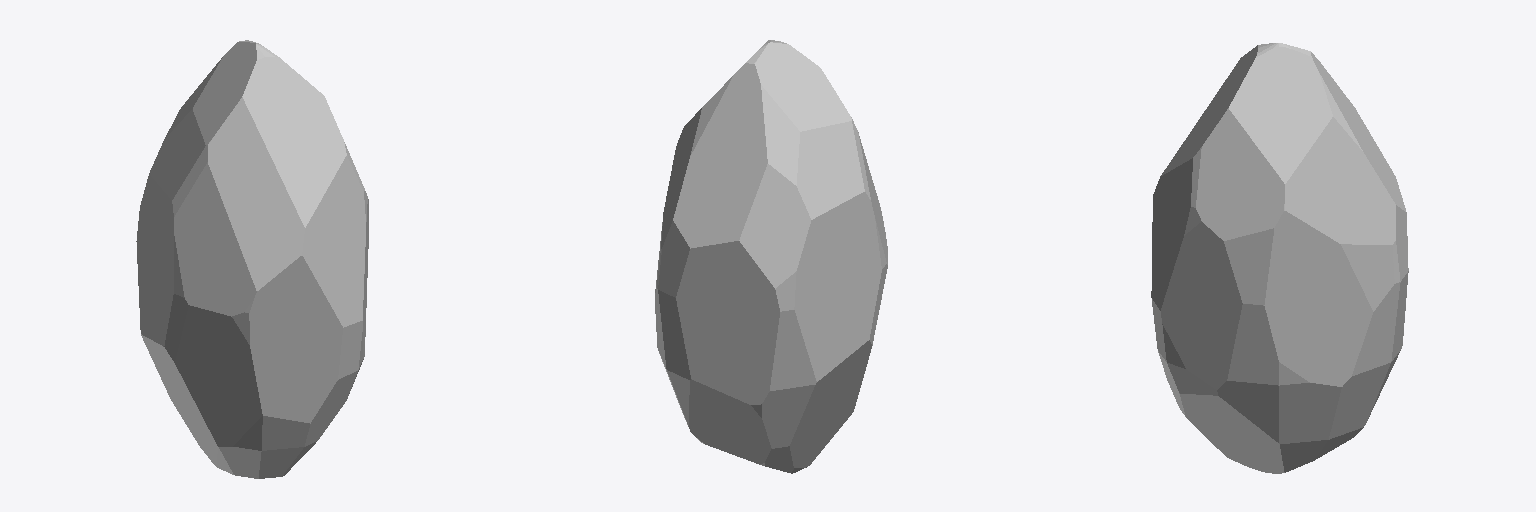
Rendered from Crystal.obj.
3 views of the same model, side by side, from view 1: azimuth 30°, elevation 25°; view 2: azimuth 150°, elevation 25°; view 3: azimuth 270°, elevation 25° (orthographic).
Visible parts, largest first — view 1: Sphere_Sphere.002; view 2: Sphere_Sphere.002; view 3: Sphere_Sphere.002.
Boxes of the visible parts, x1,y1,x2,y2 form: Sphere_Sphere.002: [136, 40, 368, 478]; Sphere_Sphere.002: [655, 40, 887, 473]; Sphere_Sphere.002: [1151, 43, 1408, 473].
Bounding box in the file's own units: 2.06 × 4.27 × 2.34.